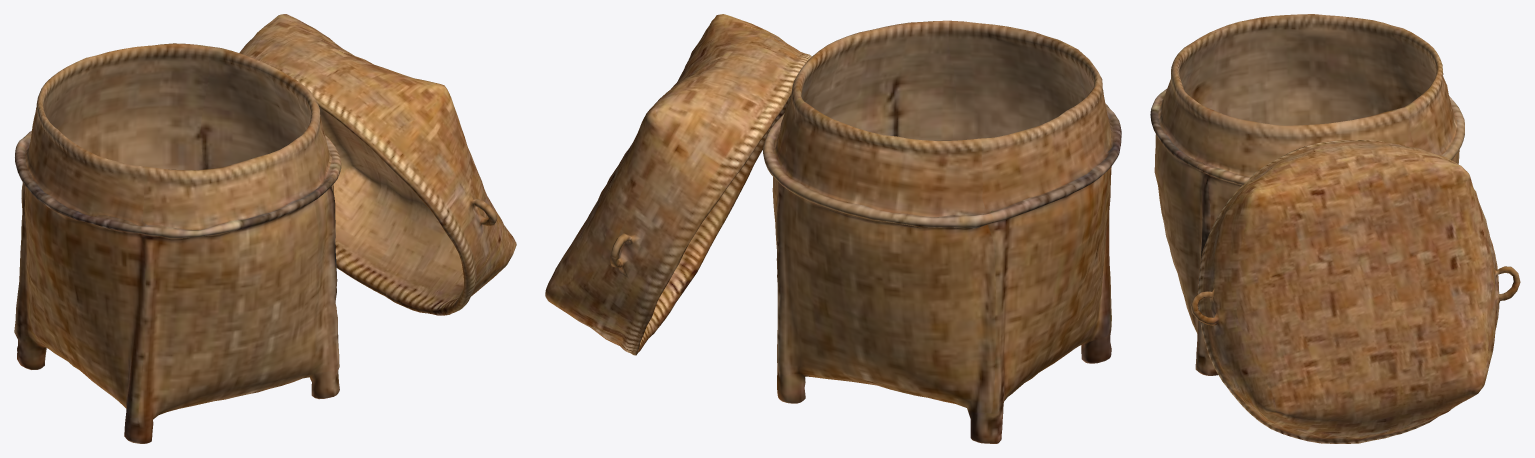
The model's file is basket-wicker.8c21e00e.glb.
3 renders of one model, left to right at view 1: azimuth 30°, elevation 25°; view 2: azimuth 150°, elevation 25°; view 3: azimuth 270°, elevation 25°, orthographic. The views are drawn at different scales.
Visible parts, largest first — view 1: model; view 2: model; view 3: model.
Part boxes in pixels (bbox=[...]): model: bbox=[14, 14, 516, 443]; model: bbox=[545, 14, 1121, 443]; model: bbox=[1150, 14, 1520, 443].
Bounding box in the file's own units: 0.3469 × 0.2005 × 0.2545.
Materials: 1 (1 with a texture image).
